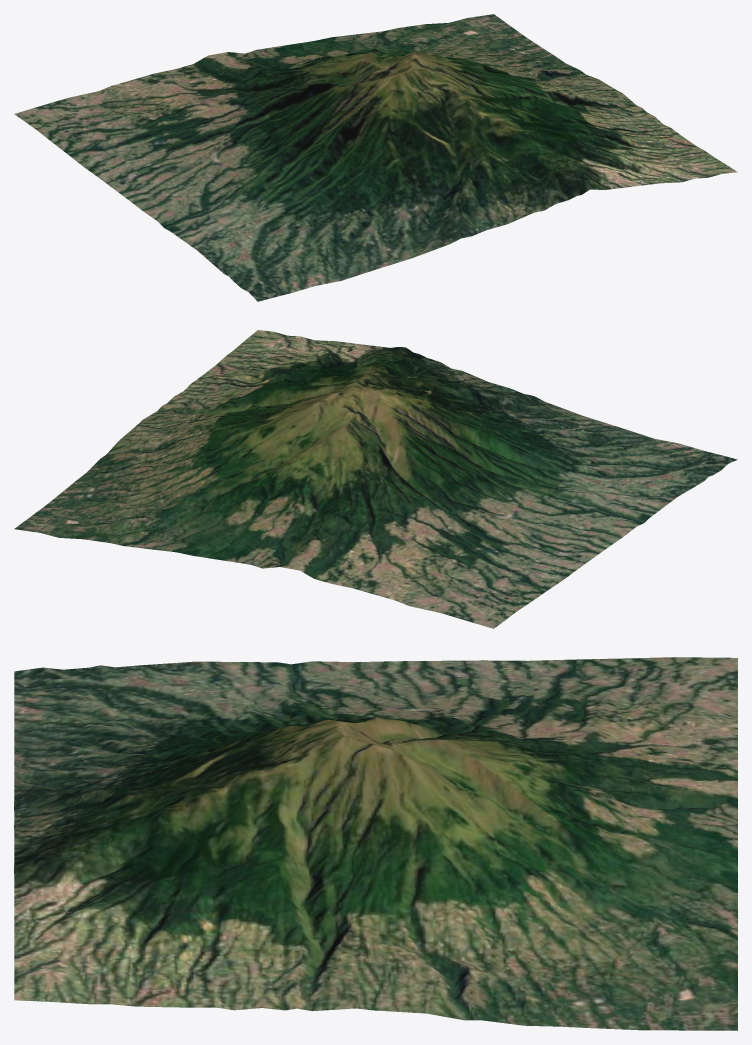
Rendered from mount-merbabu.glb.
The picture shows the model from 3 angles, top to bottom: view 1: azimuth 30°, elevation 25°; view 2: azimuth 150°, elevation 25°; view 3: azimuth 270°, elevation 25°; orthographic projection. The views are drawn at different scales.
Parts seen in each view (by area): view 1: EXPORT_GOOGLE_SAT_WM; view 2: EXPORT_GOOGLE_SAT_WM; view 3: EXPORT_GOOGLE_SAT_WM.
Part boxes in pixels (left/top/right/bottom): EXPORT_GOOGLE_SAT_WM: left=14, top=14, right=737, bottom=301; EXPORT_GOOGLE_SAT_WM: left=14, top=330, right=737, bottom=628; EXPORT_GOOGLE_SAT_WM: left=14, top=657, right=737, bottom=1030.
Size of the model in its own units: 2.96 by 0.5644 by 2.61.
1 material, 1 textured.
